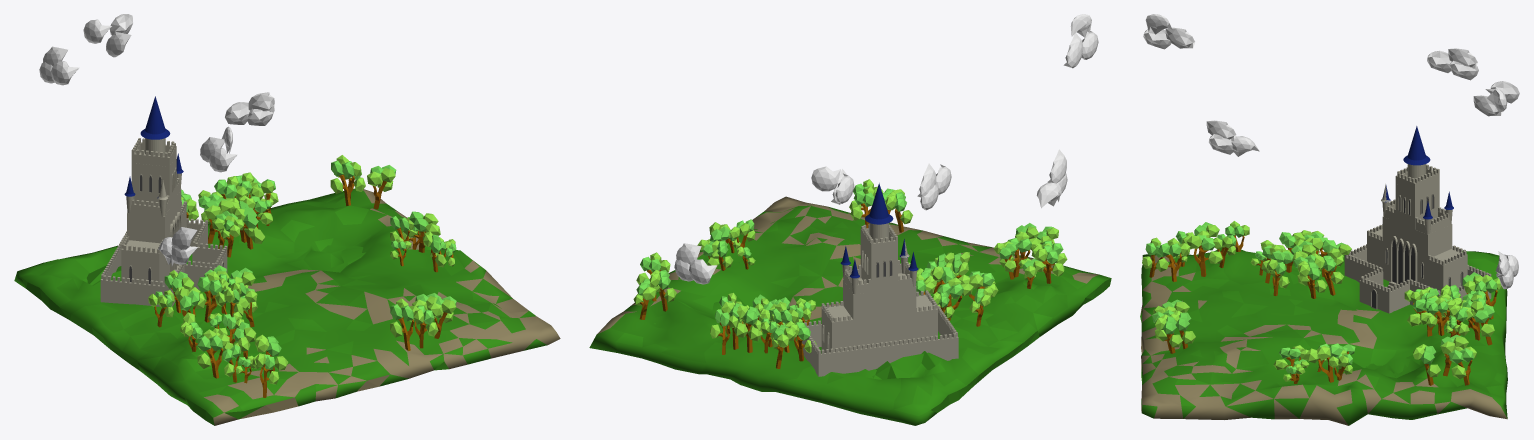
Rendered from KnightCastle.glb.
3 views of the same model, side by side, from view 1: azimuth 30°, elevation 25°; view 2: azimuth 150°, elevation 25°; view 3: azimuth 270°, elevation 25° (orthographic). The views are drawn at different scales.
Parts seen in each view (by area): view 1: Plane, Trees, Castle, Clouds; view 2: Plane, Trees, Castle, Clouds; view 3: Plane, Trees, Castle, Clouds.
Part boxes in pixels (box(x1,y1,x2,y2)): Plane: box(14, 188, 560, 425); Trees: box(148, 155, 456, 397); Castle: box(100, 96, 227, 306); Clouds: box(39, 14, 274, 266); Plane: box(589, 196, 1111, 425); Trees: box(633, 179, 1067, 368); Castle: box(802, 183, 958, 376); Clouds: box(674, 14, 1098, 284); Plane: box(1140, 247, 1507, 425); Trees: box(1142, 221, 1502, 385); Castle: box(1344, 126, 1491, 313); Clouds: box(1143, 14, 1519, 289).
Bounding box in the file's own units: 17.97 × 14.5 × 18.34.
